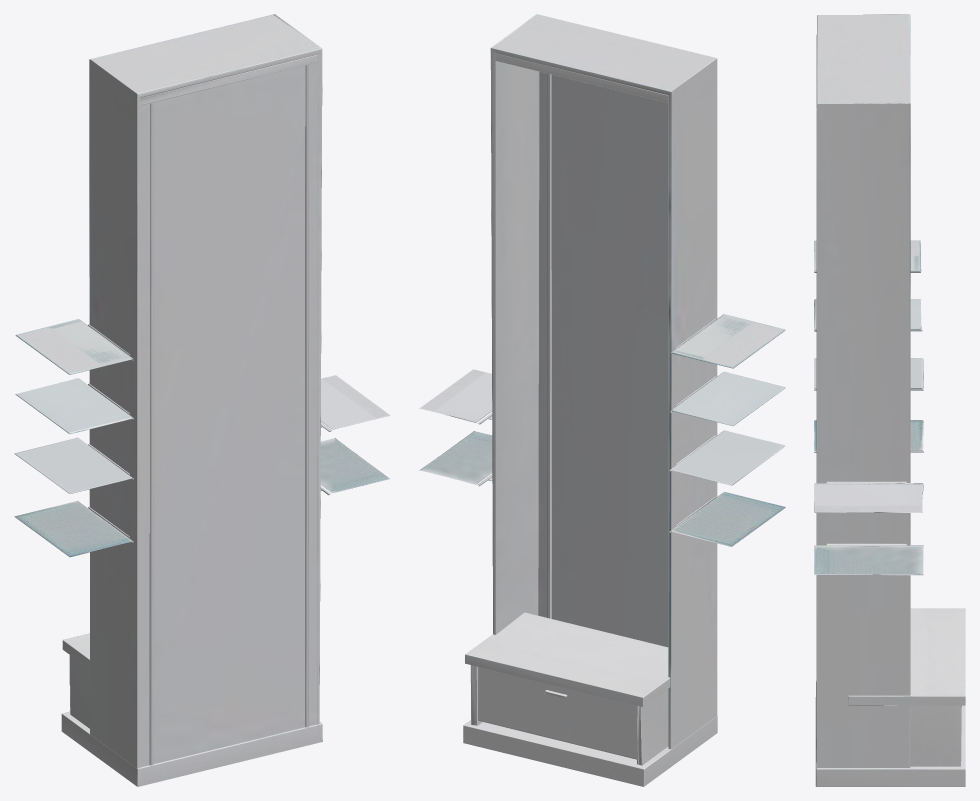
The model's file is mall-cosmetics-wall-unit.glb.
3 views of the same model, side by side, from view 1: azimuth 30°, elevation 25°; view 2: azimuth 150°, elevation 25°; view 3: azimuth 270°, elevation 25° (orthographic). The views are drawn at different scales.
Parts seen in each view (by area): view 1: cosmetics-wall-unit; view 2: cosmetics-wall-unit; view 3: cosmetics-wall-unit.
Part boxes in pixels (x1,y1,x2,y2): cosmetics-wall-unit: [14, 14, 390, 786]; cosmetics-wall-unit: [419, 14, 785, 786]; cosmetics-wall-unit: [814, 14, 965, 786].
Bounding box in the file's own units: 1.07 × 2.2 × 0.442.
Materials: 1 (1 with a texture image).
